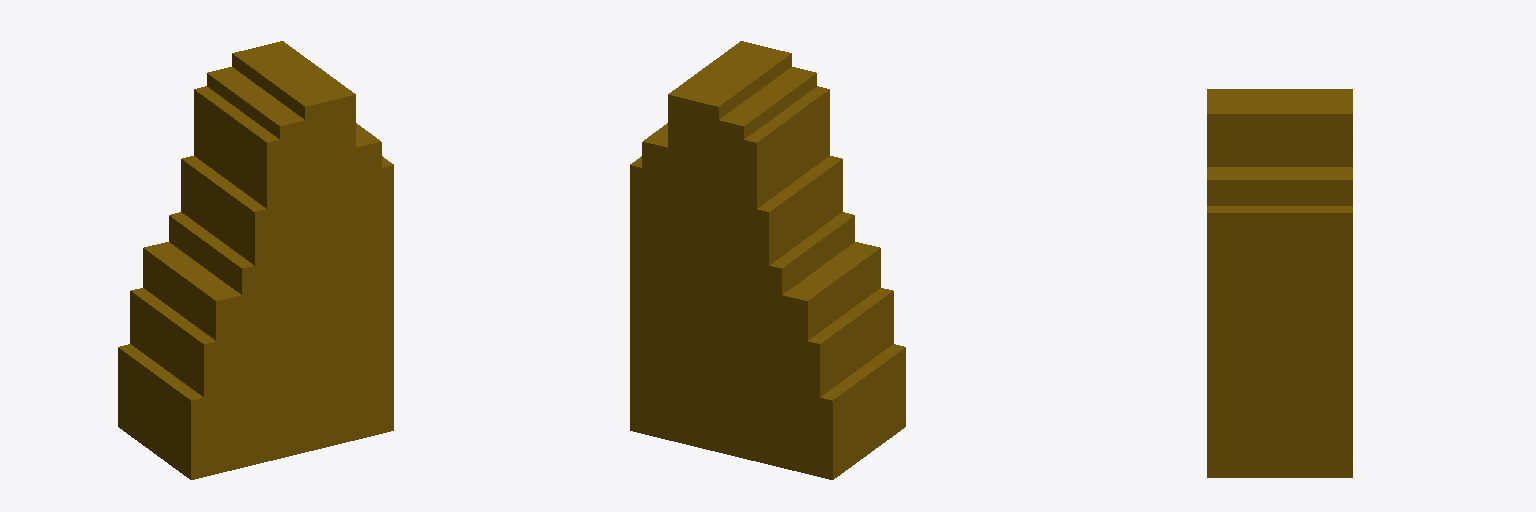
3 views of the same model, side by side, from view 1: azimuth 30°, elevation 25°; view 2: azimuth 150°, elevation 25°; view 3: azimuth 270°, elevation 25° (orthographic).
Bounding box in the file's own units: 16 × 26 × 10.
1 materials, 1 textured.